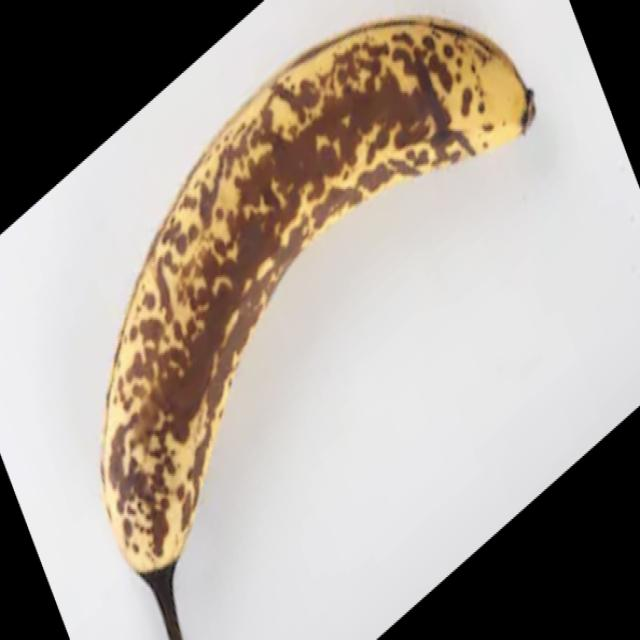overripe: (96, 11, 538, 640)
